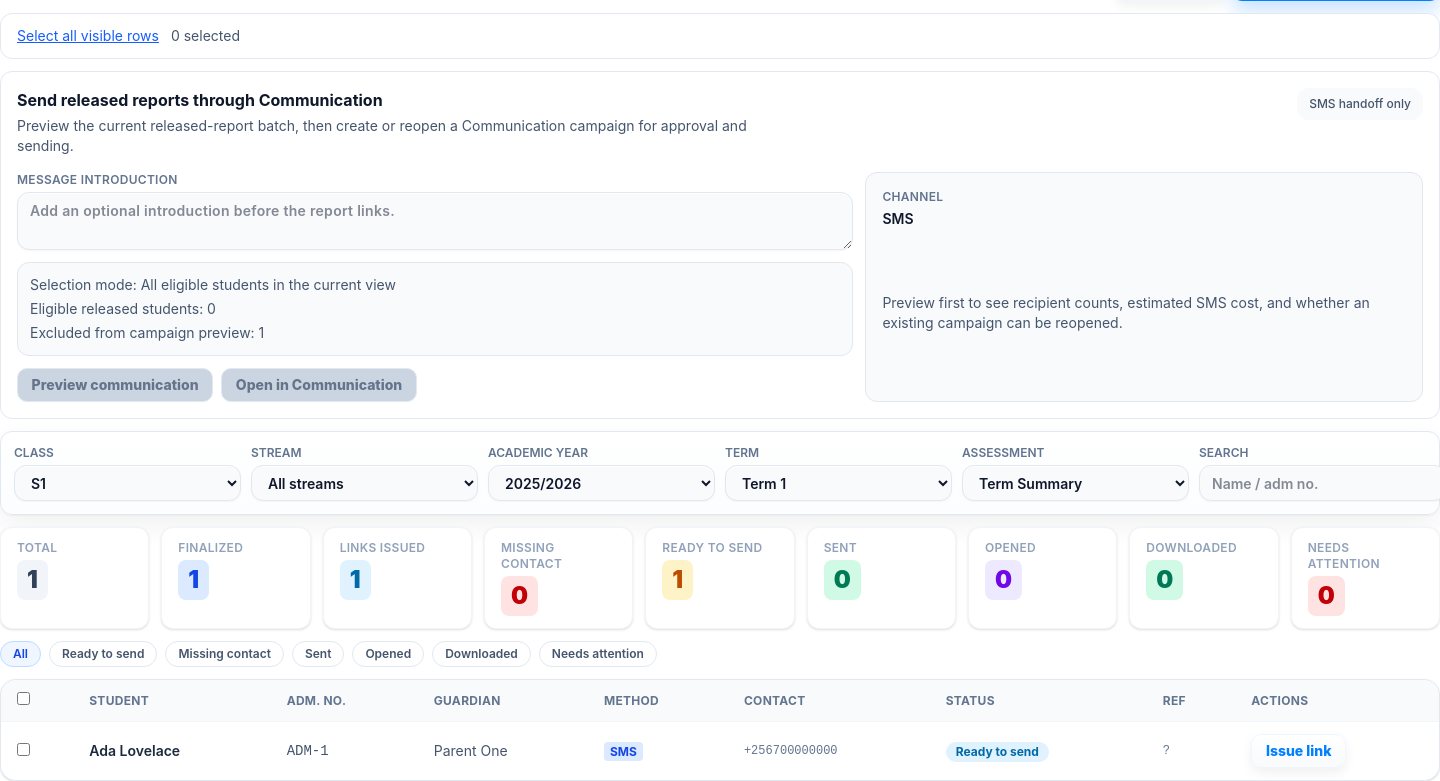
Scenario: ReleaseCenterPage › keeps selection actions hidden until a row is selected
(page scrolled)
Check: the button "Issue links for selected" is not shown
Check: the button "Copy selected messages" is not shown
Click the checkbox next to "Ada Lovelace": point(24, 750) [17,743,30,756]
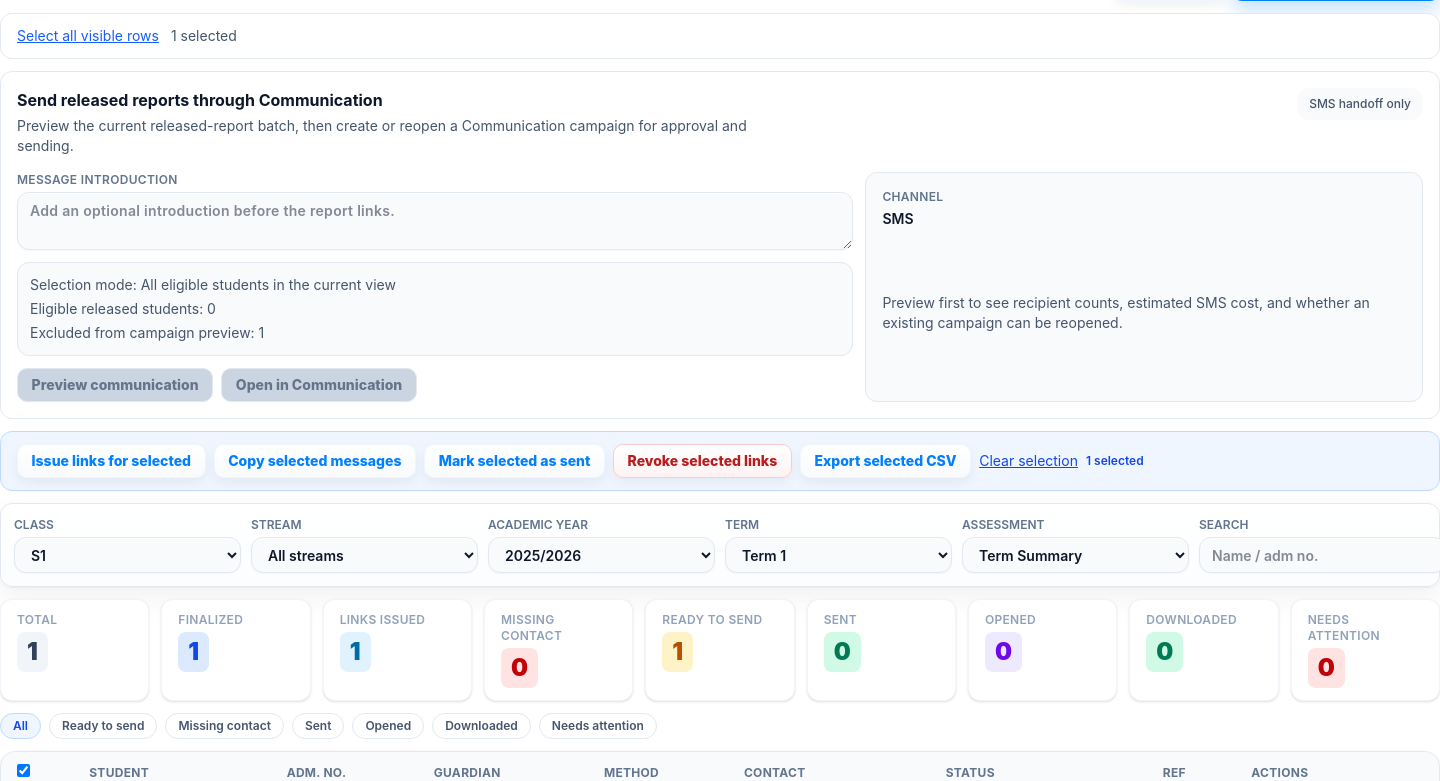
Check: the button "Issue links for selected" is shown, box [17,444,206,478]
Check: the button "Copy selected messages" is shown, box [214,444,416,478]
Check: the button "Mark selected as sent" is shown, box [424,444,605,478]
